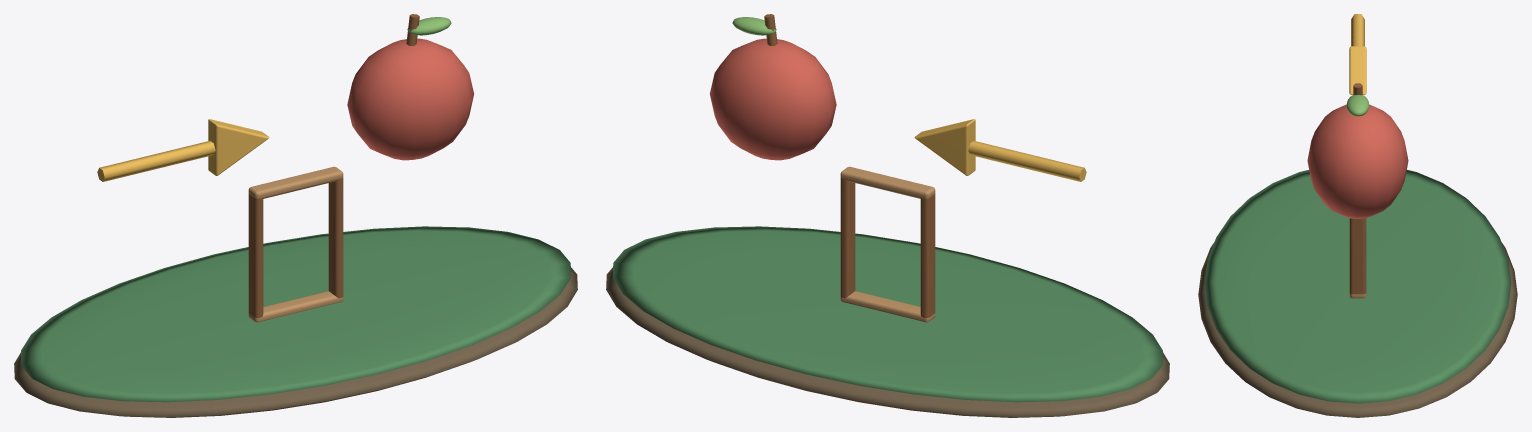
Rendered from complete-first-actually-real-object.glb.
3 renders of one model, left to right at view 1: azimuth 30°, elevation 25°; view 2: azimuth 150°, elevation 25°; view 3: azimuth 270°, elevation 25°, orthographic. The views are drawn at different scales.
Parts seen in each view (by area): view 1: complete-first-actually-real-object_surface_01, complete-first-actually-real-object_surface_03, complete-first-actually-real-object_surface_00, complete-first-actually-real-object_surface_04, complete-first-actually-real-object_surface_02, complete-first-actually-real-object_surface_06, complete-first-actually-real-object_surface_05; view 2: complete-first-actually-real-object_surface_01, complete-first-actually-real-object_surface_03, complete-first-actually-real-object_surface_00, complete-first-actually-real-object_surface_04, complete-first-actually-real-object_surface_02, complete-first-actually-real-object_surface_06, complete-first-actually-real-object_surface_05; view 3: complete-first-actually-real-object_surface_01, complete-first-actually-real-object_surface_03, complete-first-actually-real-object_surface_00, complete-first-actually-real-object_surface_04, complete-first-actually-real-object_surface_02, complete-first-actually-real-object_surface_05.
Boxes of the visible parts, x1=… form: complete-first-actually-real-object_surface_01: x1=21, y1=226, x2=570, y2=402; complete-first-actually-real-object_surface_03: x1=347, y1=38, x2=473, y2=160; complete-first-actually-real-object_surface_00: x1=14, y1=267, x2=577, y2=417; complete-first-actually-real-object_surface_04: x1=248, y1=14, x2=419, y2=318; complete-first-actually-real-object_surface_02: x1=97, y1=119, x2=269, y2=181; complete-first-actually-real-object_surface_06: x1=248, y1=166, x2=343, y2=322; complete-first-actually-real-object_surface_05: x1=407, y1=17, x2=451, y2=35; complete-first-actually-real-object_surface_01: x1=613, y1=226, x2=1162, y2=402; complete-first-actually-real-object_surface_03: x1=710, y1=38, x2=836, y2=160; complete-first-actually-real-object_surface_00: x1=606, y1=267, x2=1169, y2=417; complete-first-actually-real-object_surface_04: x1=764, y1=14, x2=935, y2=318; complete-first-actually-real-object_surface_02: x1=914, y1=119, x2=1086, y2=181; complete-first-actually-real-object_surface_06: x1=840, y1=166, x2=935, y2=322; complete-first-actually-real-object_surface_05: x1=732, y1=17, x2=776, y2=35; complete-first-actually-real-object_surface_01: x1=1204, y1=170, x2=1511, y2=403; complete-first-actually-real-object_surface_03: x1=1307, y1=104, x2=1408, y2=218; complete-first-actually-real-object_surface_00: x1=1198, y1=242, x2=1517, y2=417; complete-first-actually-real-object_surface_04: x1=1349, y1=83, x2=1366, y2=294; complete-first-actually-real-object_surface_02: x1=1349, y1=14, x2=1366, y2=94; complete-first-actually-real-object_surface_05: x1=1346, y1=95, x2=1369, y2=116.
Size of the model in its own units: 4.56 by 2.41 by 2.5.
